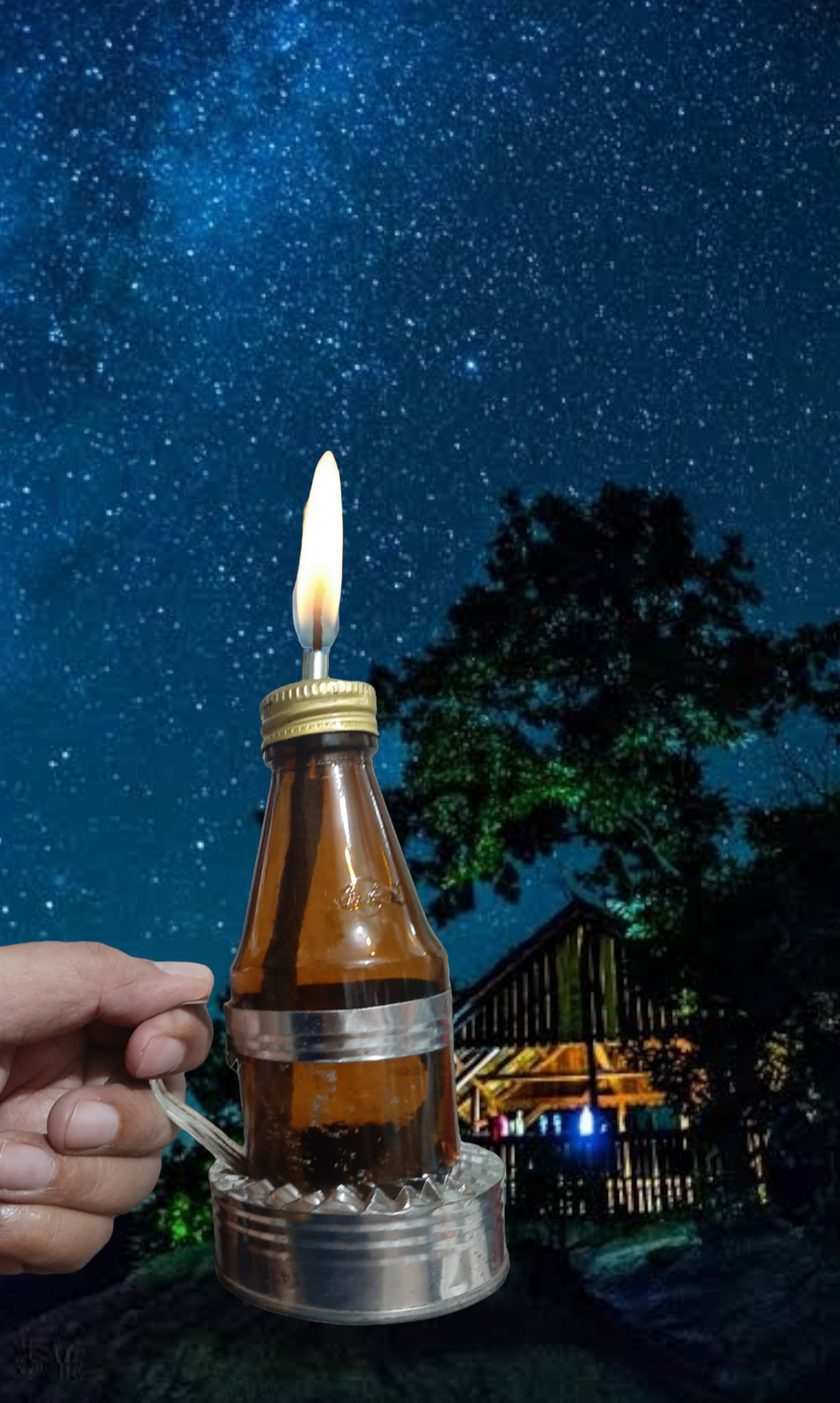Open-Flame-Hazard: (141, 450, 520, 1322)
